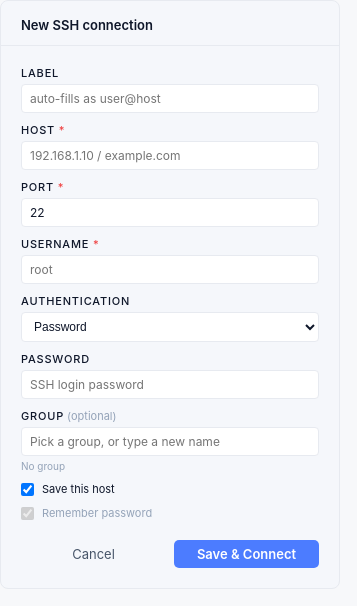
Test: HostForm › group: a new name says it will create the group, an existing one says it joins
The image size is (357, 606).
Expected: the text "No group" is shown, [21,460,65,472]
Type "staging" into the field labelled "Group".
click(170, 442); type("staging")  # box [21,427,319,456]
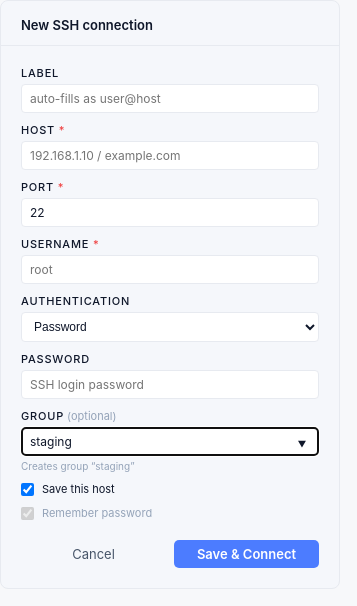
Expected: the text "Creates group “staging”" is shown, [21,460,134,472]
Replace the text in the field labelled "Group" with "prod" at coordinates (170, 442), box [21,427,319,456]
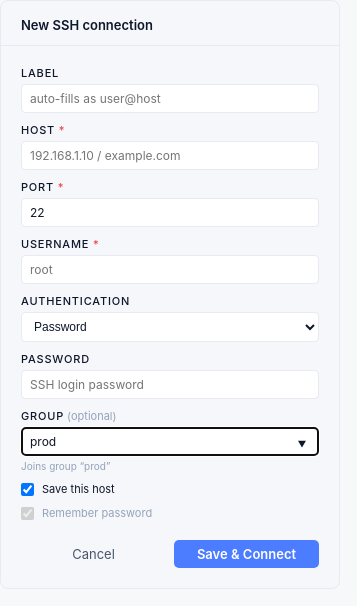
Expected: the text "Joins group “prod”" is shown, [21,460,110,472]
